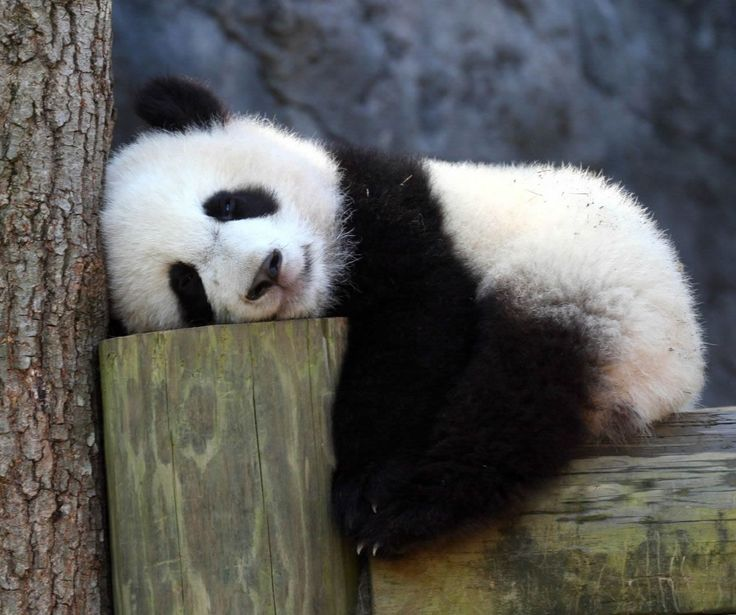panda: (74, 54, 735, 567)
